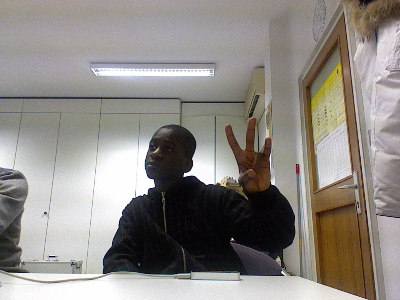观音: (223, 116, 273, 192)
